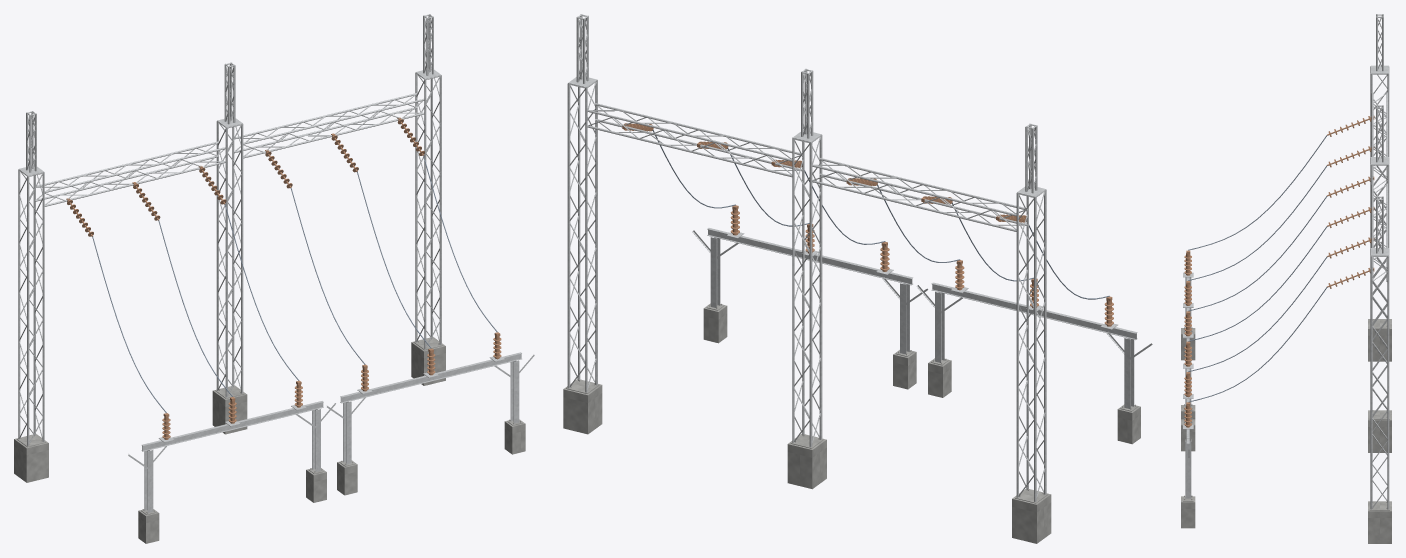
File: substation-gantries-and-equipment-supports.glb
3 renders of one model, left to right at view 1: azimuth 30°, elevation 25°; view 2: azimuth 150°, elevation 25°; view 3: azimuth 270°, elevation 25°, orthographic. The views are drawn at different scales.
Visible parts, largest first — view 1: GantryColumns, Pedestals&BasePlates, EquipmentSupports, ColumnBracing, GantryBeams, Insulators(context), EarthPeaks, BeamBracing, Conductors(context); view 2: GantryColumns, Pedestals&BasePlates, EquipmentSupports, ColumnBracing, GantryBeams, EarthPeaks, BeamBracing, Insulators(context), Conductors(context); view 3: Pedestals&BasePlates, GantryColumns, Insulators(context), Conductors(context), ColumnBracing, EarthPeaks, EquipmentSupports, GantryBeams, BeamBracing.
Part boxes in pixels (left/top/right/bottom): GantryColumns: left=18, top=72, right=441, bottom=445; Pedestals&BasePlates: left=14, top=337, right=525, bottom=543; EquipmentSupports: left=128, top=352, right=534, bottom=512; ColumnBracing: left=19, top=73, right=440, bottom=443; GantryBeams: left=35, top=93, right=424, bottom=206; Insulators(context): left=66, top=117, right=501, bottom=439; EarthPeaks: left=18, top=14, right=441, bottom=176; BeamBracing: left=35, top=94, right=423, bottom=204; Conductors(context): left=92, top=155, right=497, bottom=413; GantryColumns: left=567, top=80, right=1046, bottom=501; Pedestals&BasePlates: left=563, top=303, right=1140, bottom=543; EquipmentSupports: left=692, top=228, right=1152, bottom=408; ColumnBracing: left=569, top=81, right=1045, bottom=497; GantryBeams: left=587, top=103, right=1027, bottom=231; EarthPeaks: left=568, top=14, right=1046, bottom=197; BeamBracing: left=588, top=105, right=1027, bottom=229; Insulators(context): left=622, top=123, right=1113, bottom=326; Conductors(context): left=652, top=129, right=1109, bottom=299; Pedestals&BasePlates: left=1181, top=319, right=1391, bottom=543; GantryColumns: left=1370, top=66, right=1389, bottom=509; Insulators(context): left=1184, top=116, right=1374, bottom=427; Conductors(context): left=1188, top=135, right=1327, bottom=402; ColumnBracing: left=1372, top=73, right=1387, bottom=508; EarthPeaks: left=1371, top=14, right=1388, bottom=255; EquipmentSupports: left=1183, top=272, right=1193, bottom=499; GantryBeams: left=1371, top=92, right=1387, bottom=281; BeamBracing: left=1372, top=93, right=1387, bottom=280.
Size of the model in its own units: 19 by 15.71 by 8.8.
4 materials, 3 textured.
